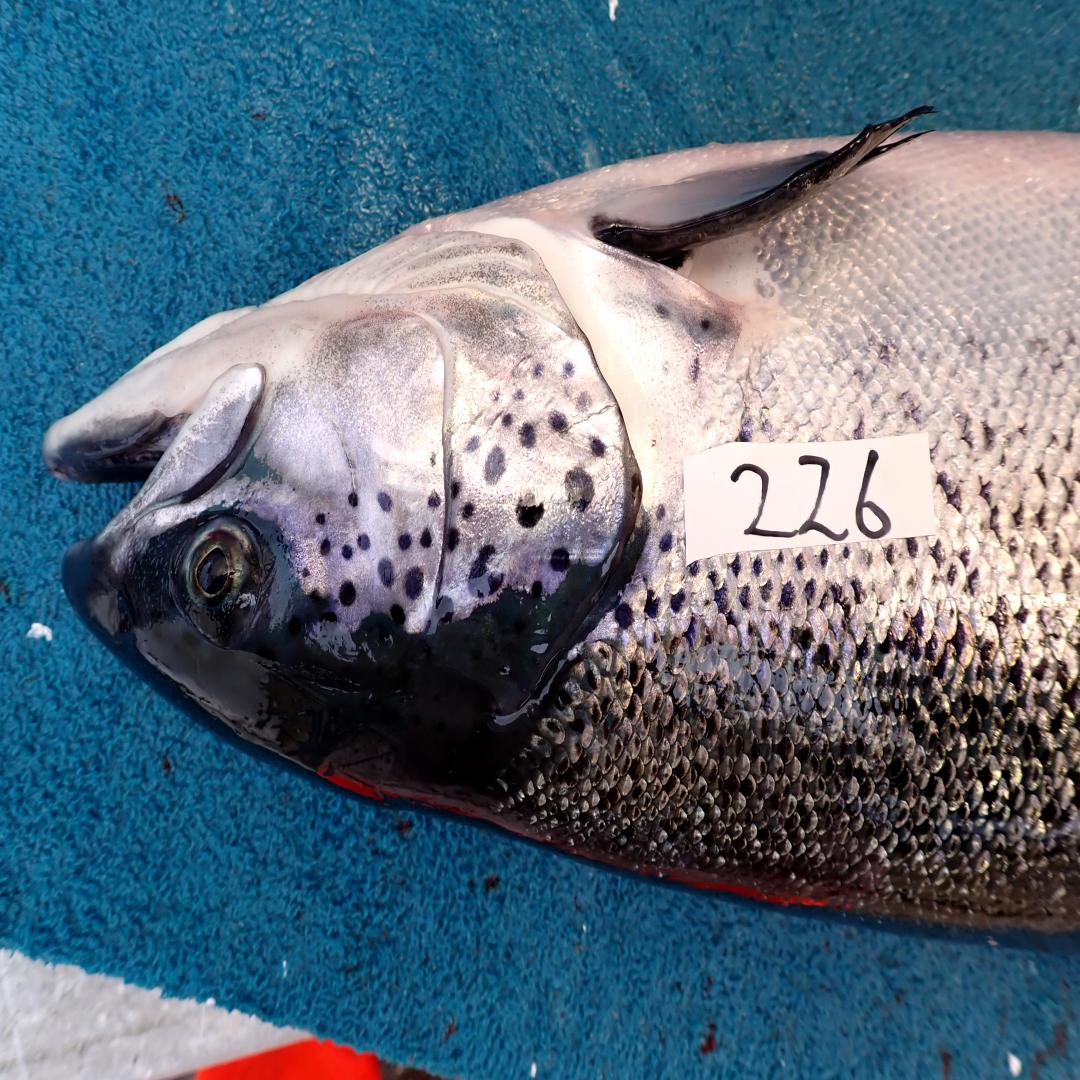roi: (268, 220, 636, 630)
